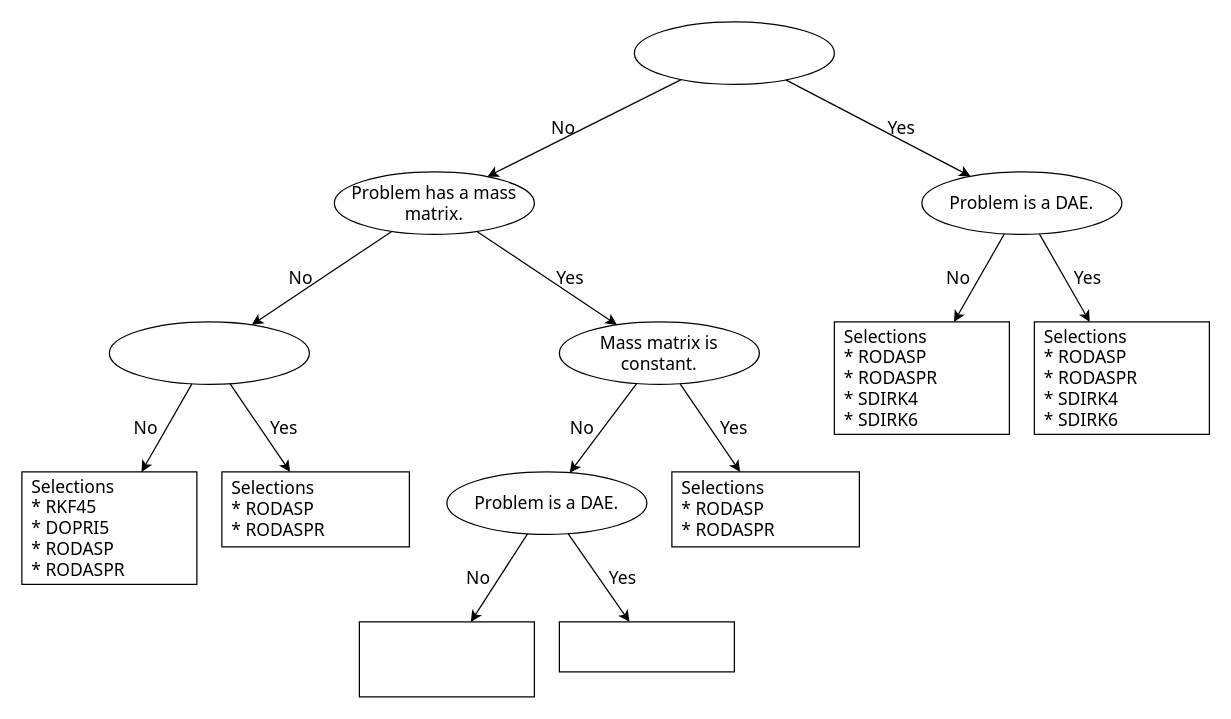
Some shapes in this 1231 by 719 pixel diagram are drawn without their labels. The shapes that lost their labels are listed below. From the top down, each one's centre as x and y in pixels, then its label:
At [733,52]: "Problem is derived from PDEs.".
At [208,352]: "Problem is stiff.".
At [446,659]: "Selection * ESDIRK45c * SDIRK6".
At [646,646]: "Selection * SDIRK6".
